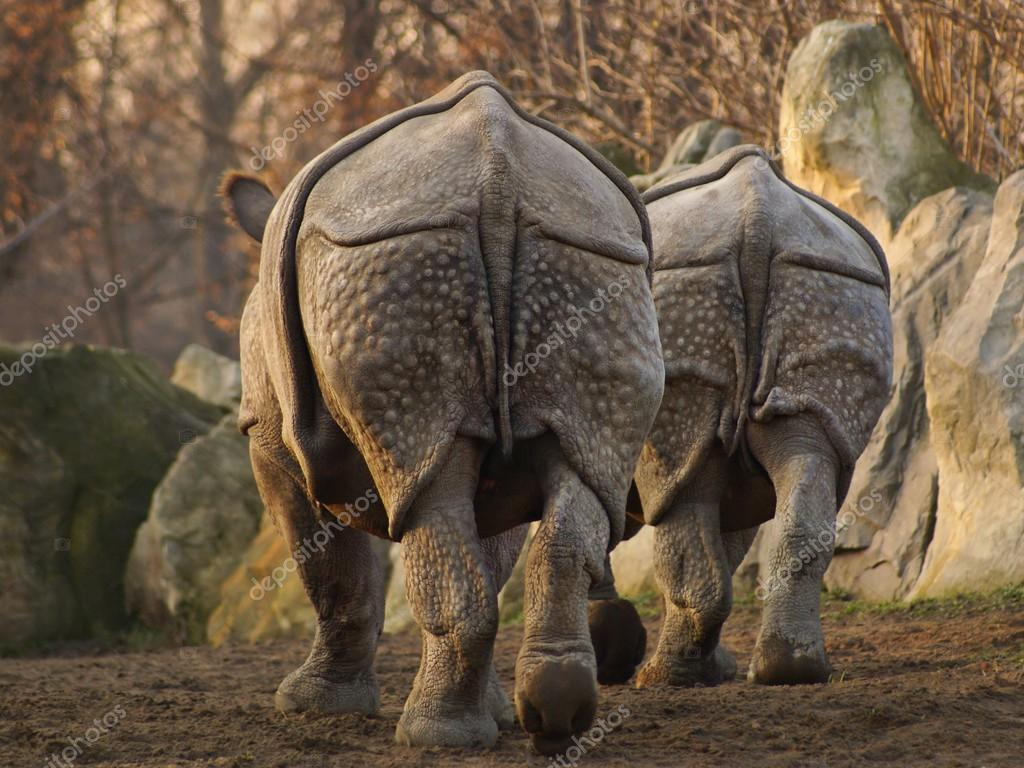rhinoceros: (218, 76, 647, 758), (571, 166, 900, 676)
